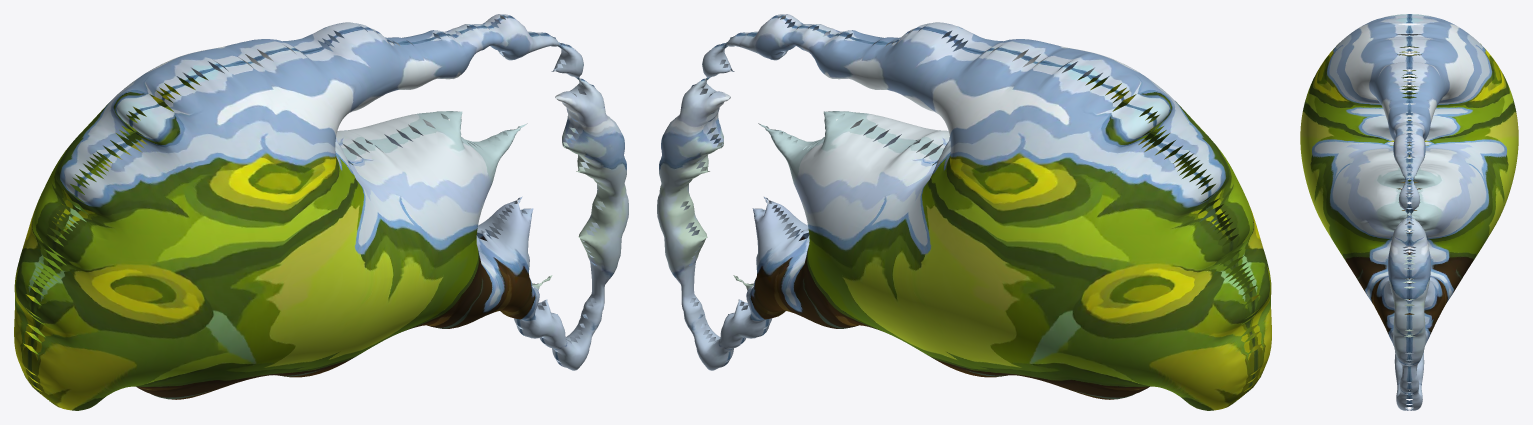
Rendered from leaf_overhang.glb.
3 renders of one model, left to right at view 1: azimuth 30°, elevation 25°; view 2: azimuth 150°, elevation 25°; view 3: azimuth 270°, elevation 25°, orthographic. The views are drawn at different scales.
Visible parts, largest first — view 1: leaf_overhang; view 2: leaf_overhang; view 3: leaf_overhang.
Part boxes in pixels (left/top/right/bottom): leaf_overhang: left=14, top=14, right=628, bottom=410; leaf_overhang: left=657, top=14, right=1271, bottom=410; leaf_overhang: left=1300, top=14, right=1518, bottom=410.
Size of the model in its own units: 0.989 by 0.6214 by 0.4537.
Materials: 1 (1 with a texture image).
